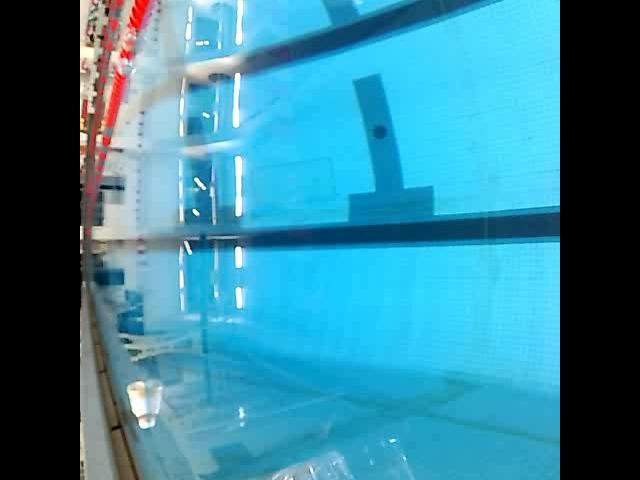Bottle: (244, 446, 382, 480), (124, 377, 154, 432)
